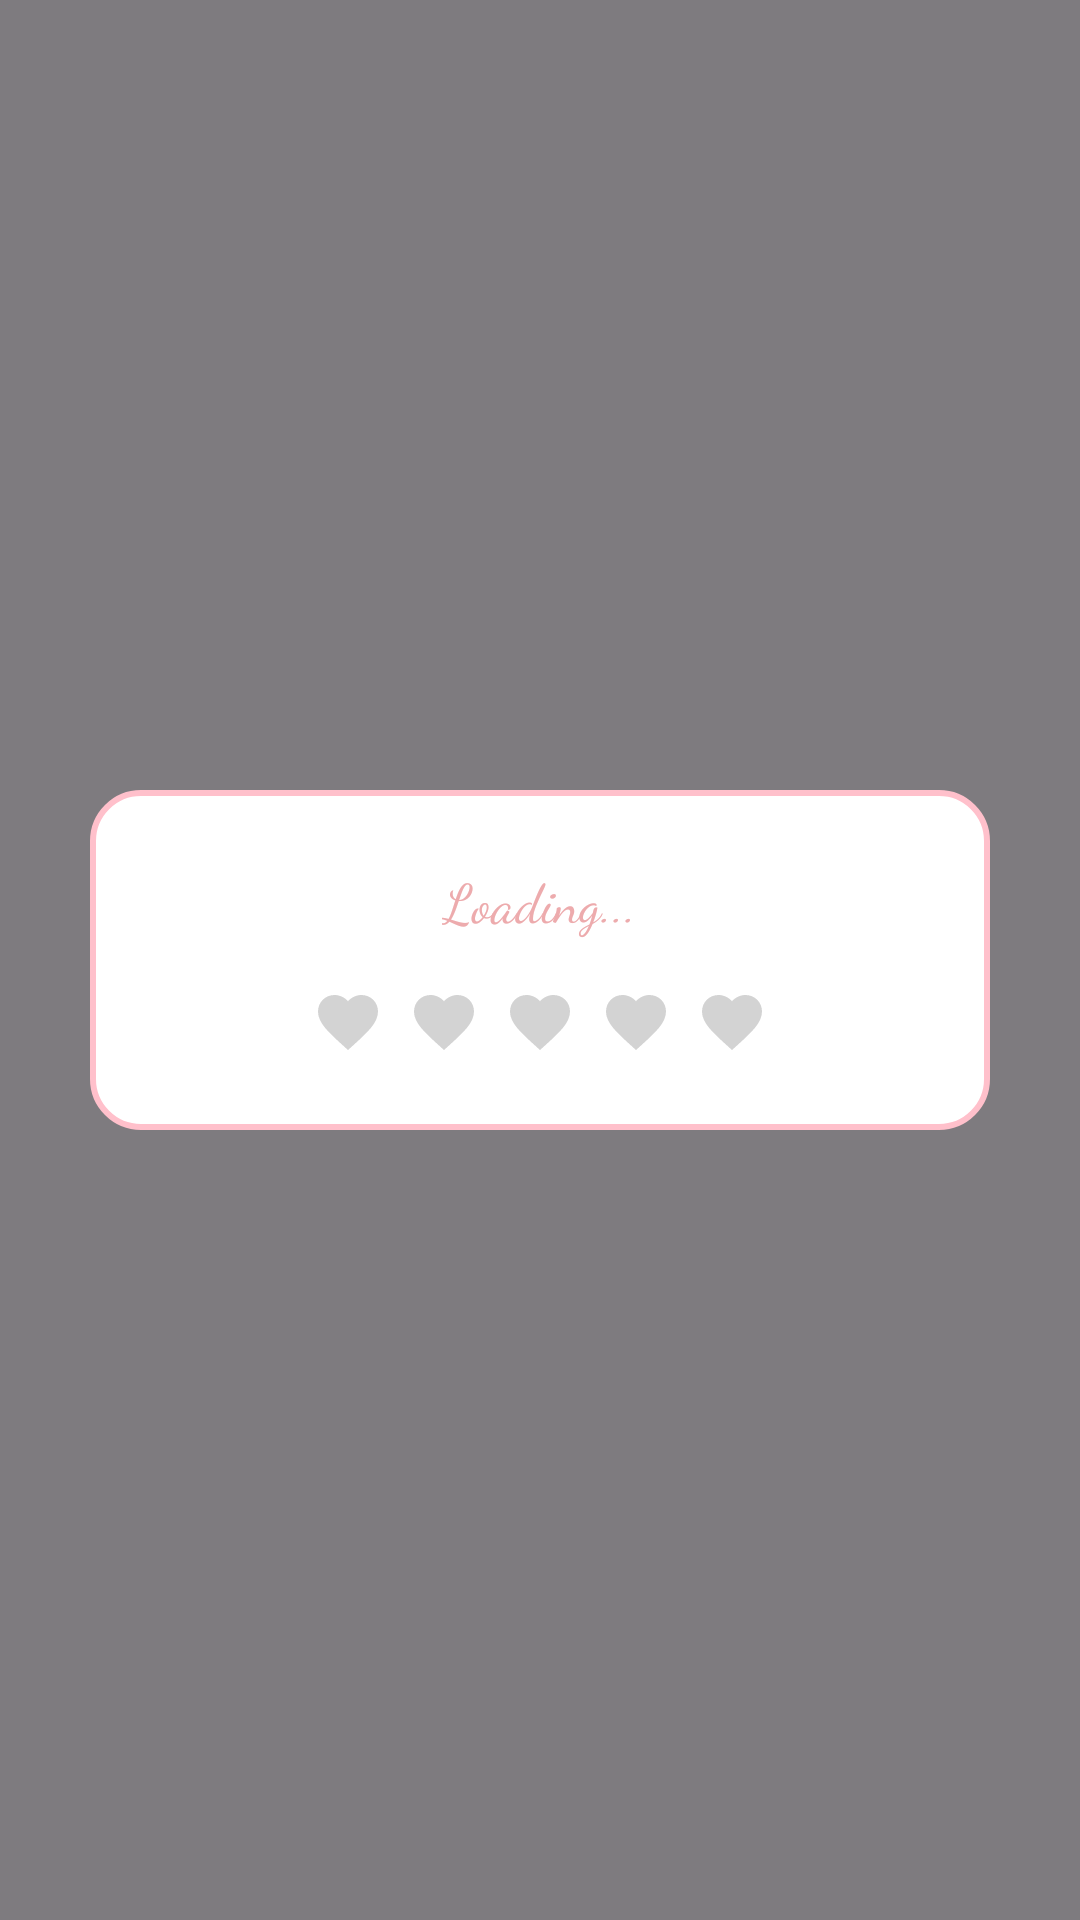

Icons on this 1080w x 1920h Android screen, each with its box as [left=x1, top=y1, right=x2, bottom=y2]:
heart: [left=318, top=995, right=378, bottom=1050], [left=414, top=995, right=474, bottom=1050], [left=510, top=995, right=570, bottom=1050], [left=606, top=995, right=666, bottom=1050], [left=702, top=995, right=762, bottom=1050]
